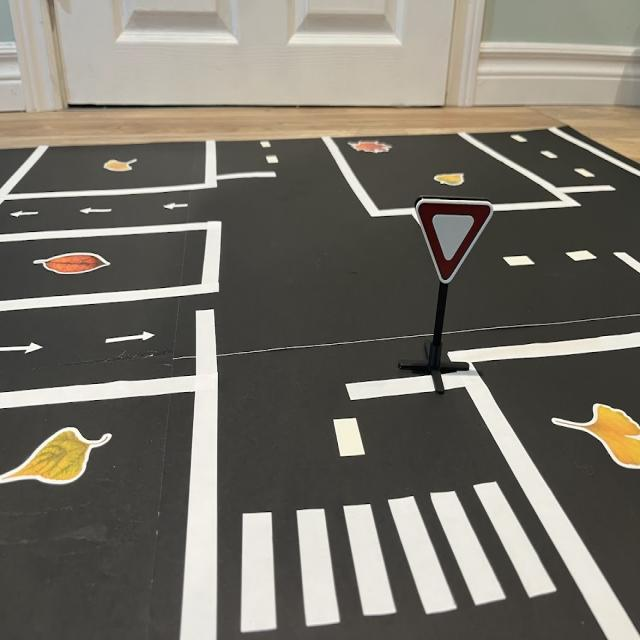road_crosswalk: (236, 471, 569, 640)
road_oneway: (103, 326, 159, 349), (1, 339, 50, 359), (78, 203, 115, 218), (160, 198, 192, 213), (10, 210, 43, 220)
sign_yield: (416, 200, 495, 286)
